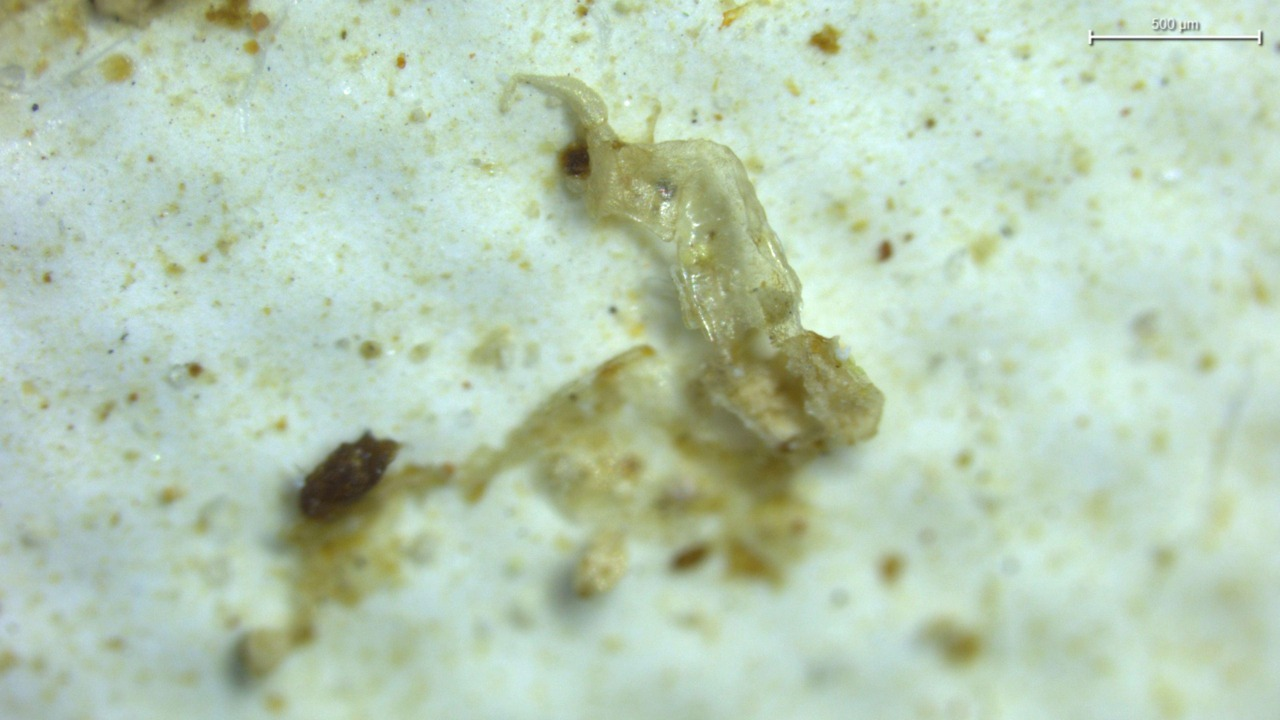microplastic_fragment: (502, 75, 883, 443)
